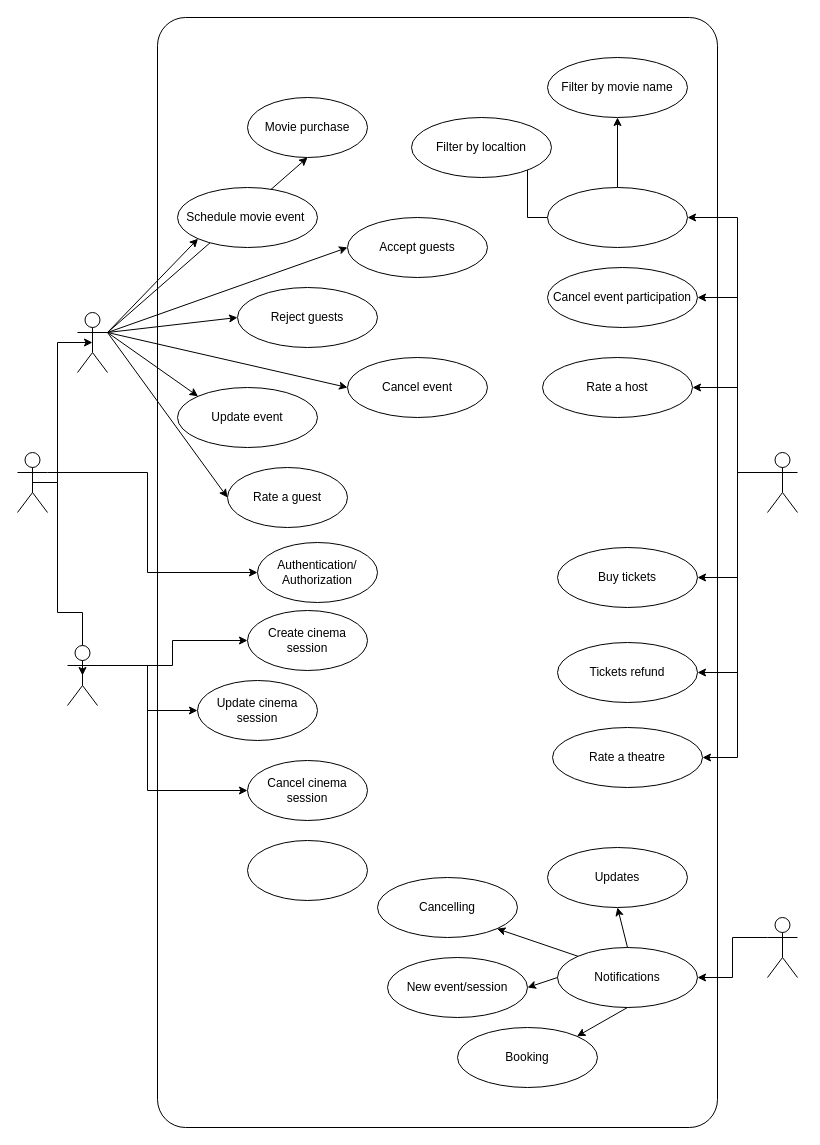
This 820x1145 diagram has some shape labels left out. The box of each missing label's shape, as (x1, y1, x2, y2) in pixels:
Guest: (766, 452, 798, 512)
Host: (16, 452, 48, 512)
Human: (76, 312, 108, 372)
Join movie event: (546, 186, 688, 248)
Rate a customer: (246, 840, 368, 900)
System: (766, 916, 798, 978)
Theatre: (66, 644, 98, 706)
